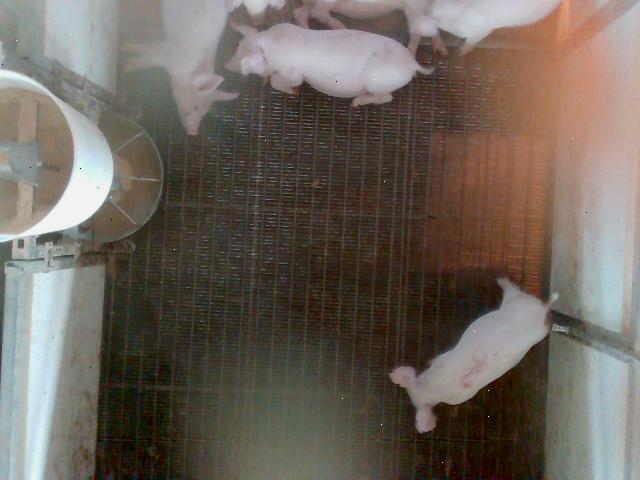pig-5: (390, 279, 559, 432)
